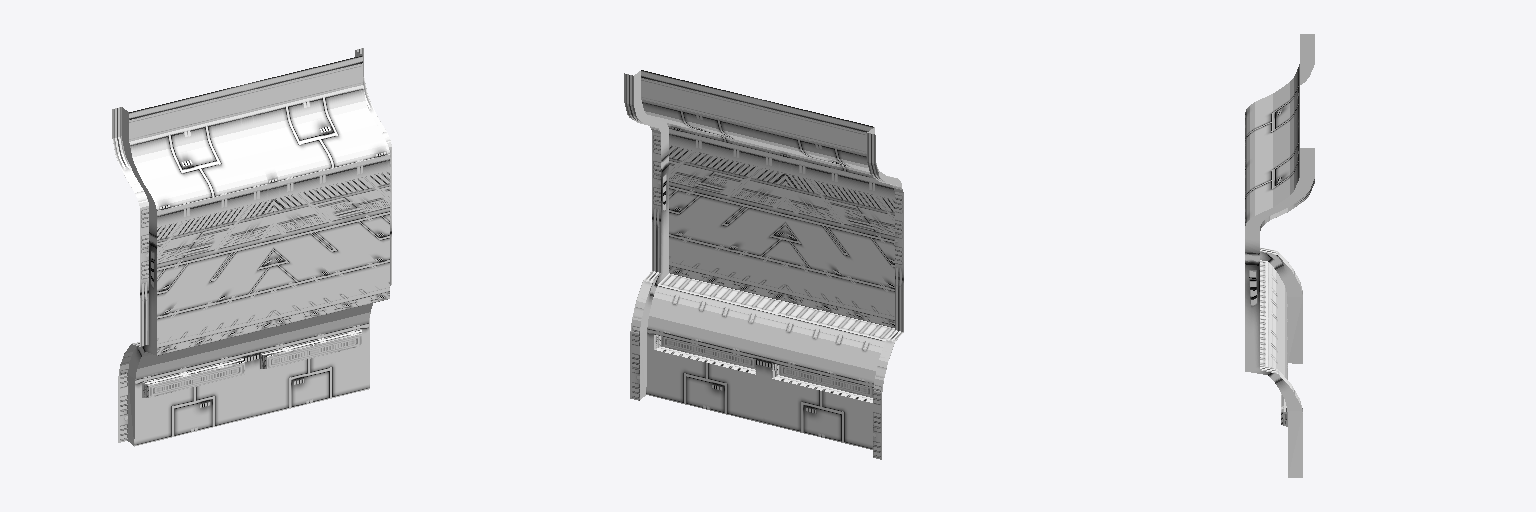
3 renders of one model, left to right at view 1: azimuth 30°, elevation 25°; view 2: azimuth 150°, elevation 25°; view 3: azimuth 270°, elevation 25°, orthographic.
Parts seen in each view (by area): view 1: Wall_Full_01; view 2: Wall_Full_01; view 3: Wall_Full_01.
Part boxes in pixels (x1,y1,x2,y2): Wall_Full_01: (112,48,391,446); Wall_Full_01: (624,70,903,459); Wall_Full_01: (1245,34,1314,477).
Bounding box in the file's own units: 2 × 2.5 × 0.483.
1 materials, 1 textured.